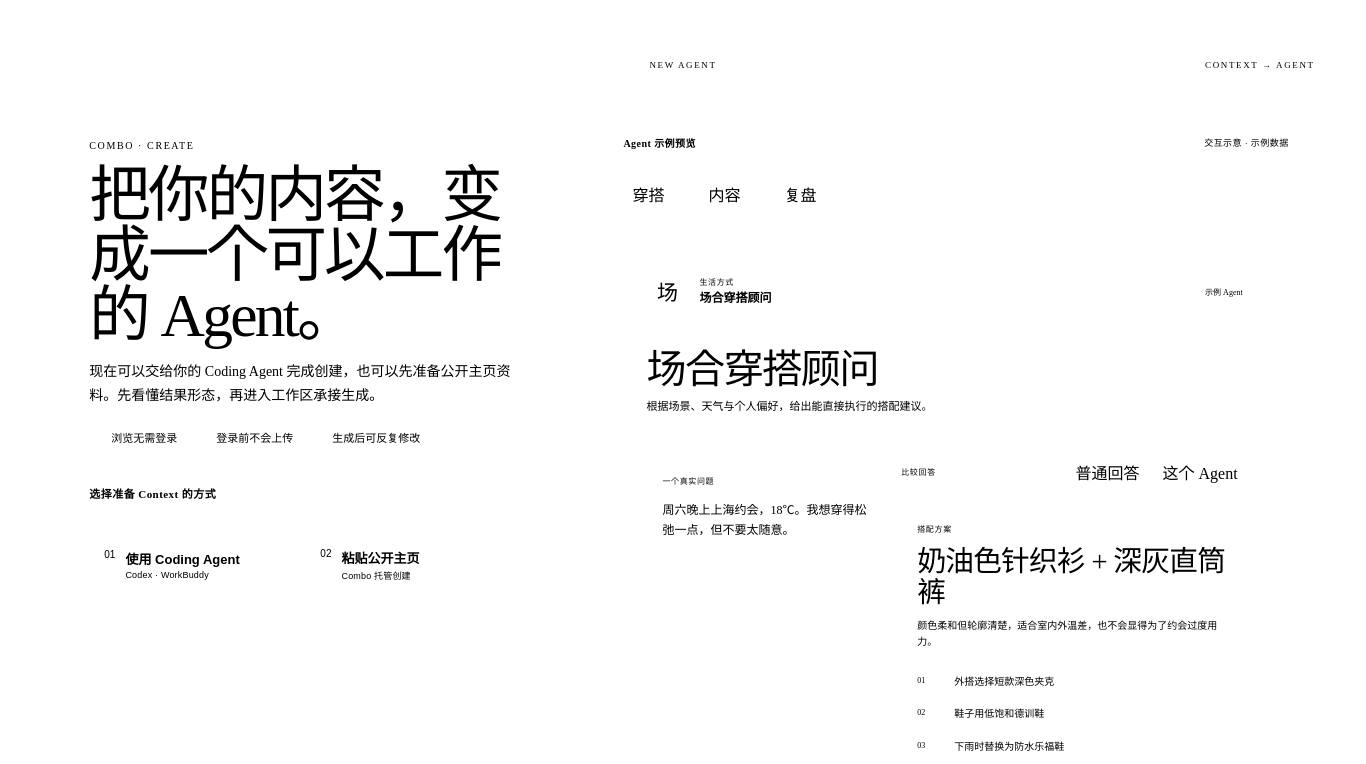
LandingPage › Agent 示例 tab 支持点击和键盘切换，并可比较普通回答与这个 Agent
Click the tab "内容" at (724, 194), box [688,176,760,212]
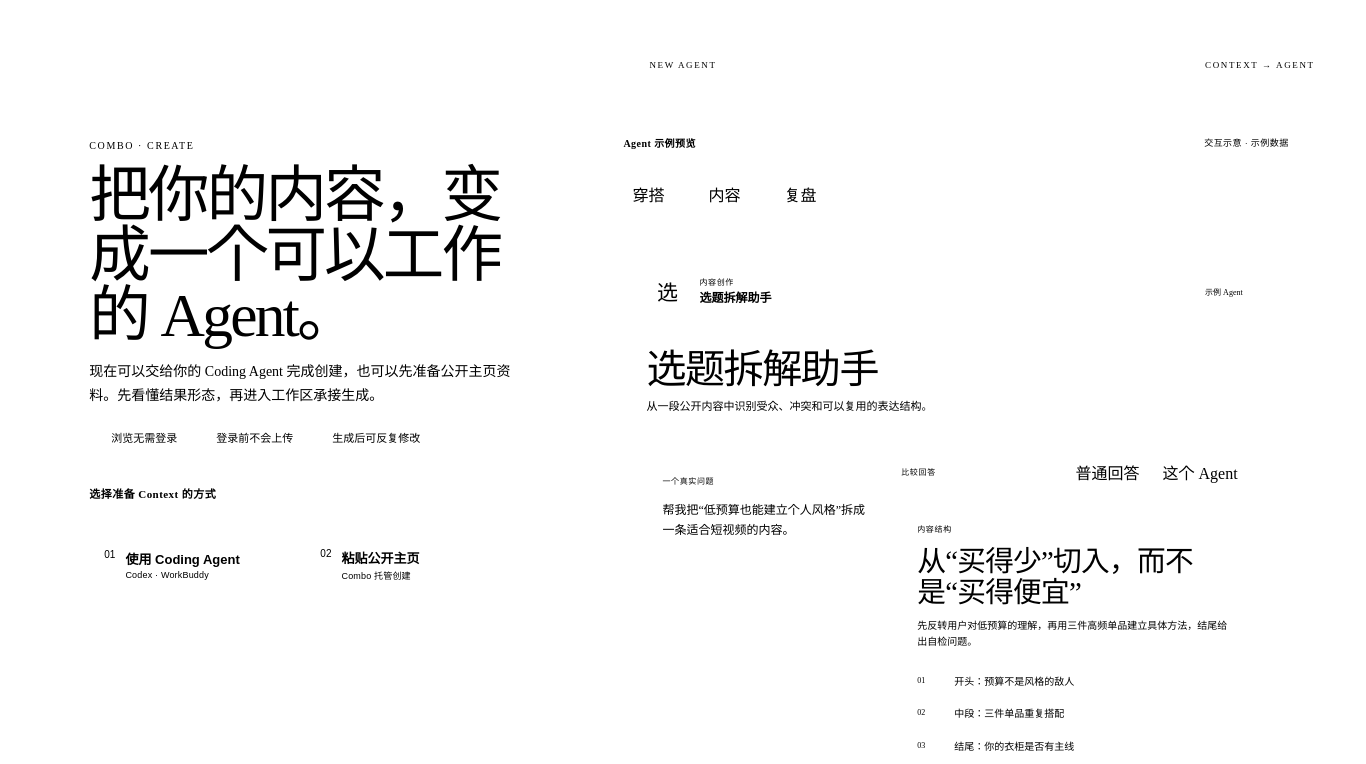
Result: the heading "从“买得少”切入，而不是“买得便宜”" is shown at [917,546,1235,608]
Result: the heading "奶油色针织衫 + 深灰直筒裤" is gone
Click the button "普通回答" at (1108, 472), box [1066,458,1150,486]
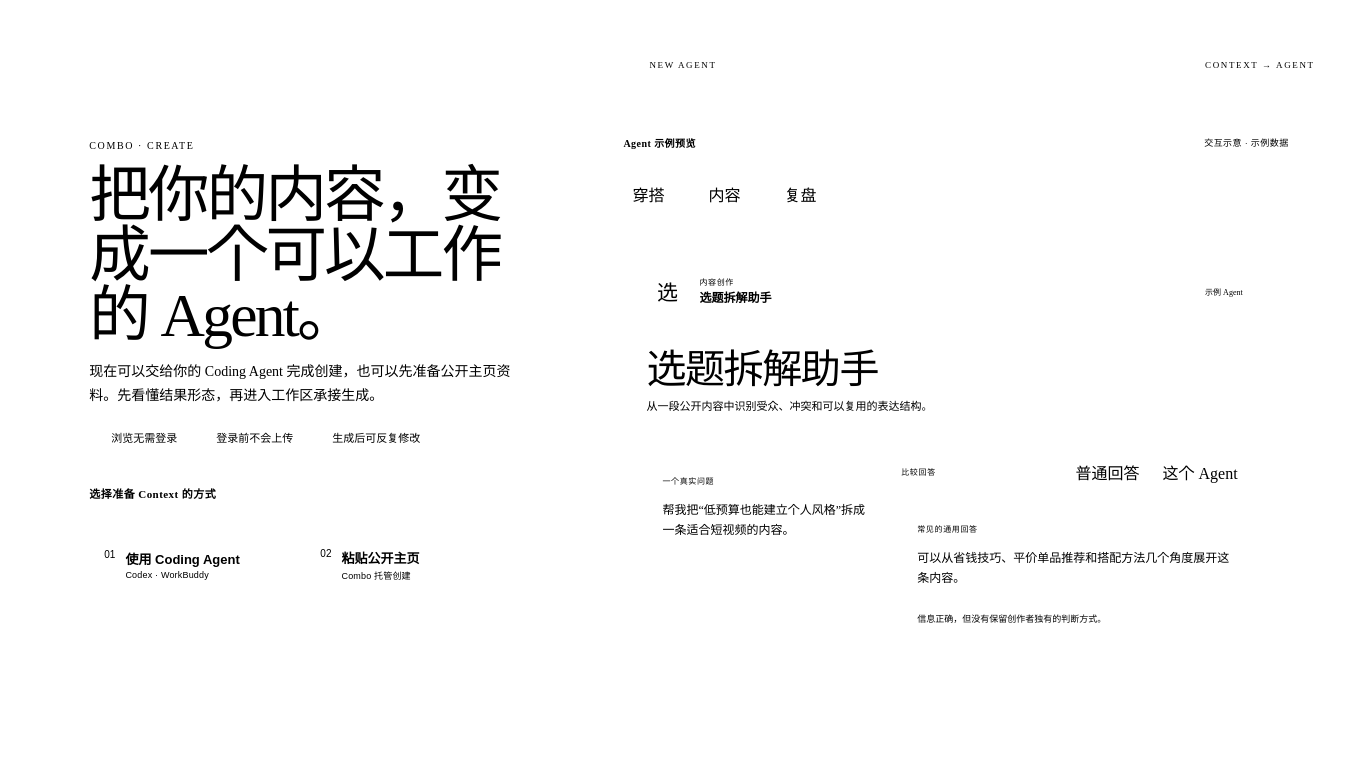
Result: the text "可以从省钱技巧、平价单品推荐和搭配方法几个角度展开这条内容。" is shown at [917,548,1235,588]
Result: the heading "从“买得少”切入，而不是“买得便宜”" is gone
Click the button "这个 Agent" at (1200, 472), box [1153,458,1248,486]
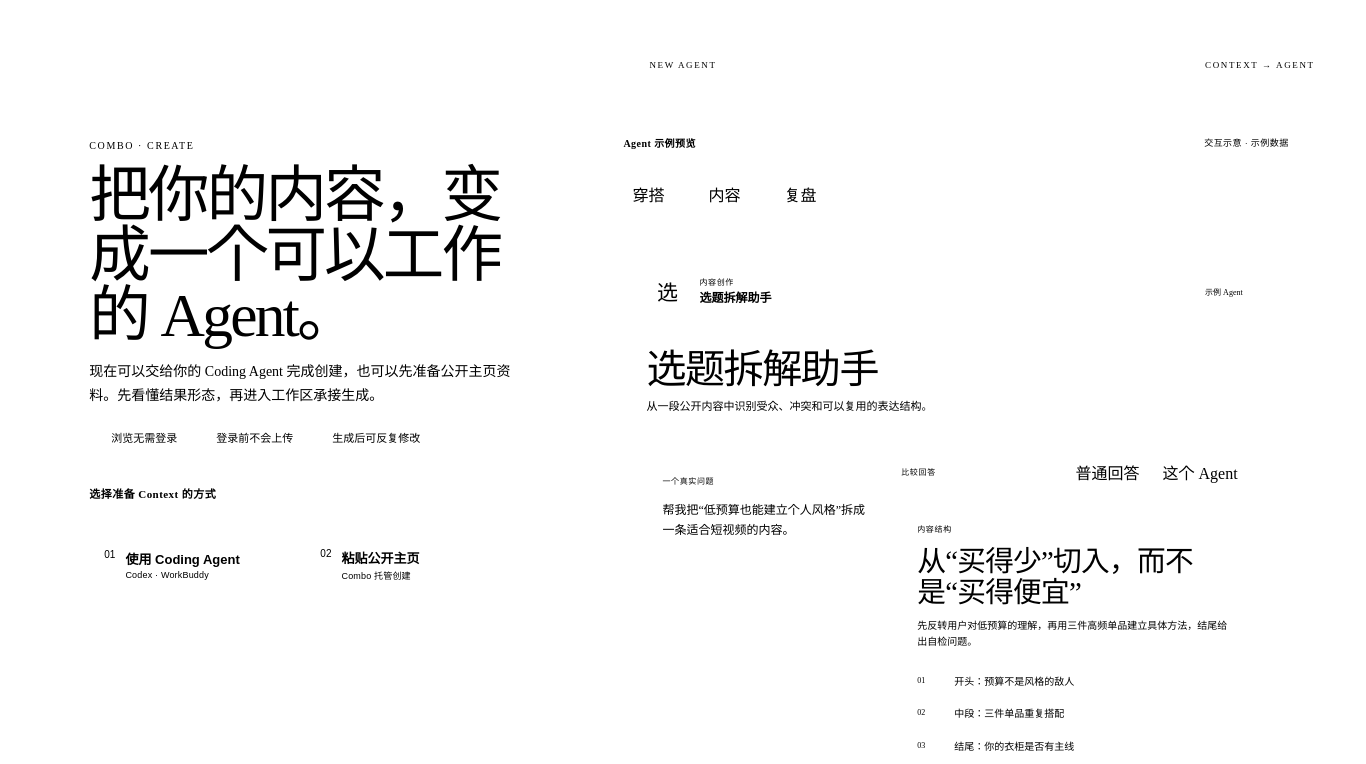
Result: the heading "从“买得少”切入，而不是“买得便宜”" is shown at [917,546,1235,608]
Press Arrowright
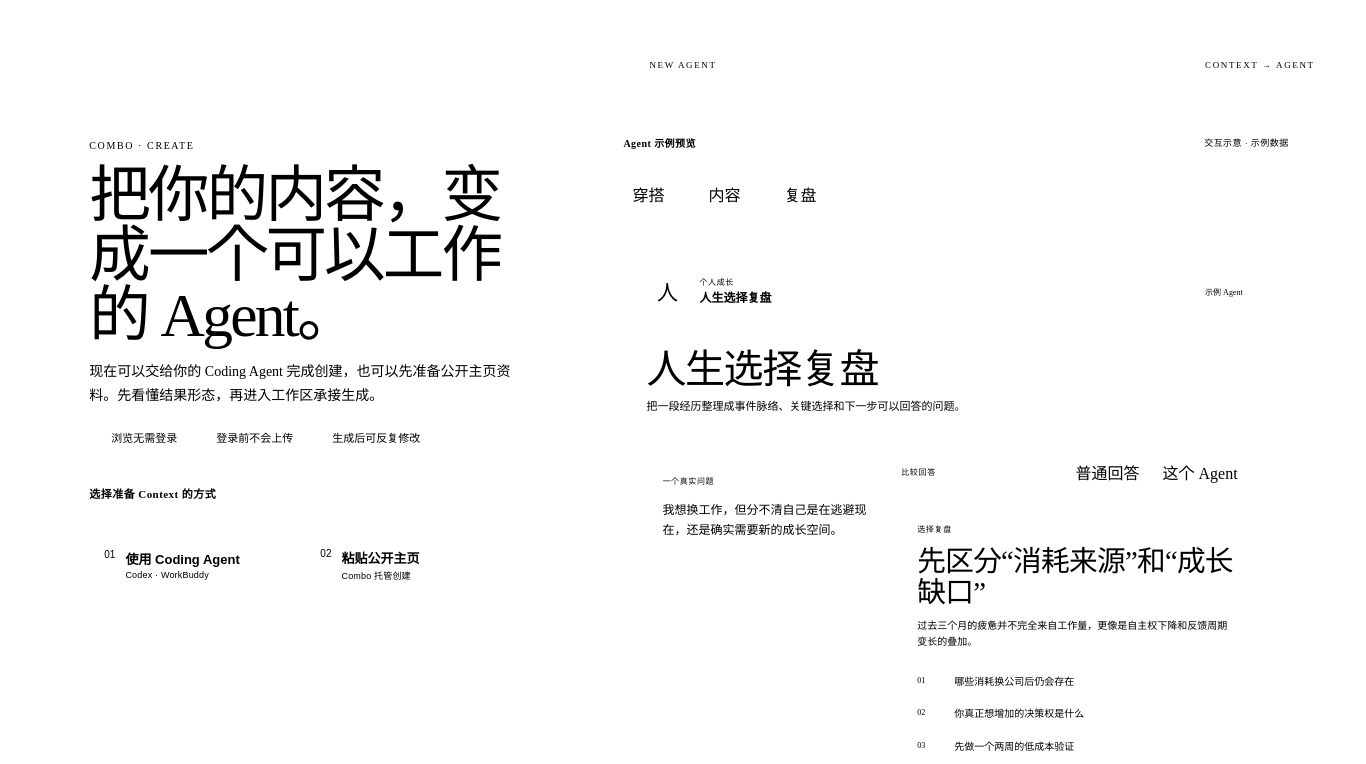
Result: the heading "先区分“消耗来源”和“成长缺口”" is shown at [917,546,1235,608]
Press Home
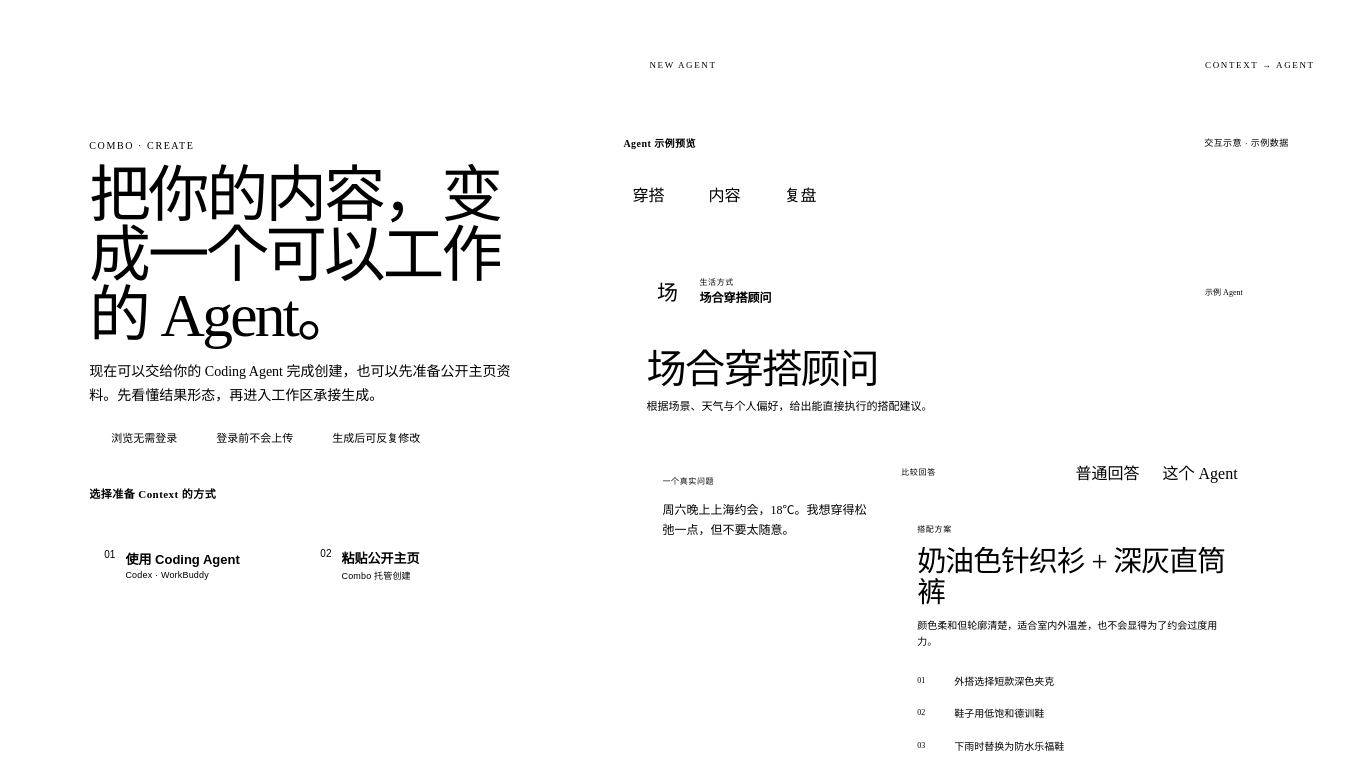
Result: the heading "奶油色针织衫 + 深灰直筒裤" is shown at [917,546,1235,608]
